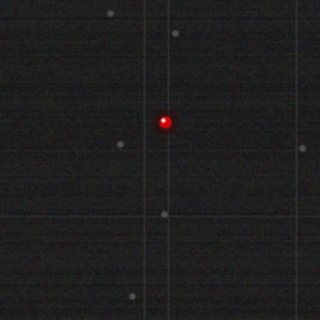red_fault: (157, 114, 173, 130)
